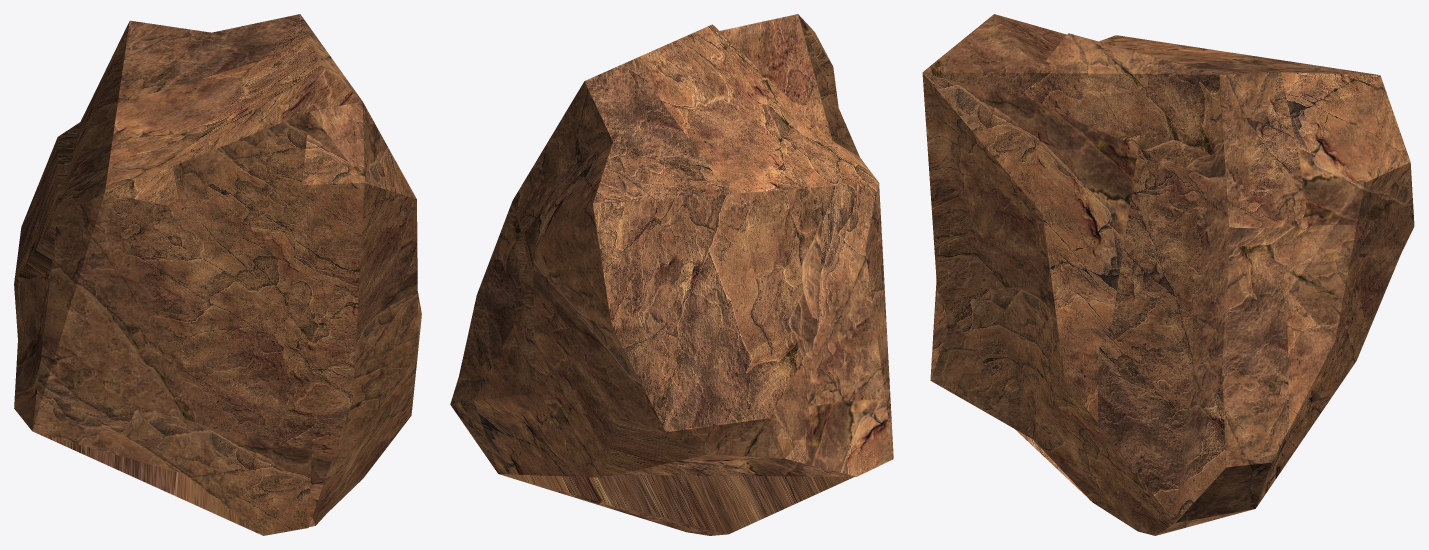
Rendered from rock boulder.obj.
The picture shows the model from 3 angles, left to right: view 1: azimuth 30°, elevation 25°; view 2: azimuth 150°, elevation 25°; view 3: azimuth 270°, elevation 25°; orthographic projection.
Visible parts, largest first — view 1: Sphere.001; view 2: Sphere.001; view 3: Sphere.001.
Part boxes in pixels (x1,y1,x2,y2): Sphere.001: [14, 14, 421, 535]; Sphere.001: [450, 14, 893, 535]; Sphere.001: [922, 14, 1414, 535].
Size of the model in its own units: 7.15 by 7.99 by 7.35.
Materials: 1 (1 with a texture image).
